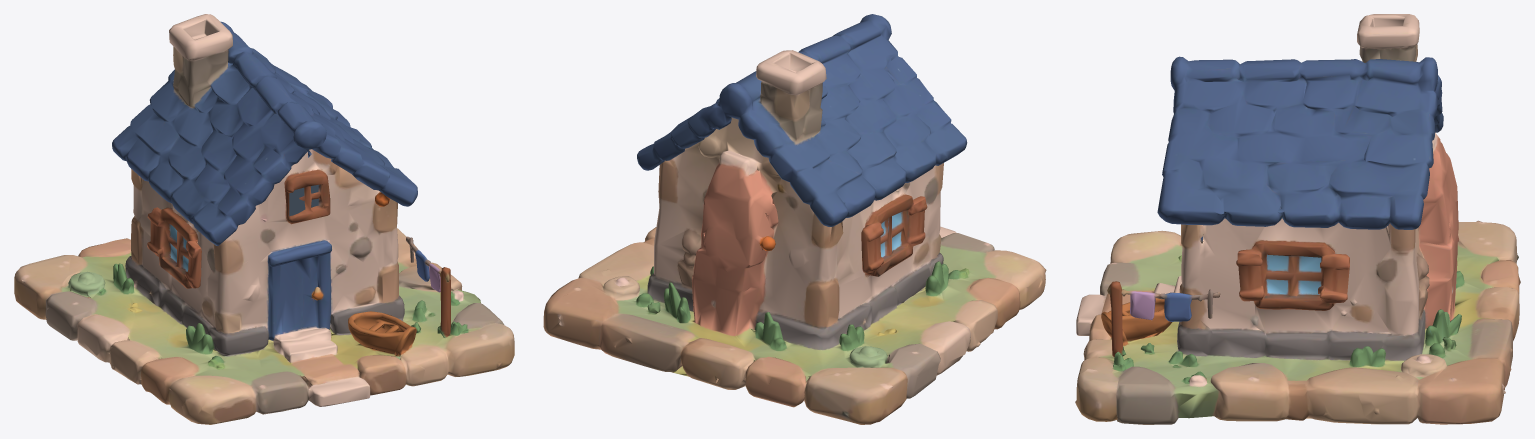
File: cottage-house.glb
The picture shows the model from 3 angles, left to right: view 1: azimuth 30°, elevation 25°; view 2: azimuth 150°, elevation 25°; view 3: azimuth 270°, elevation 25°; orthographic projection. The views are drawn at different scales.
Bounding box in the file's own units: 8.43 × 6.8 × 8.85.
Materials: 1 (1 with a texture image).
